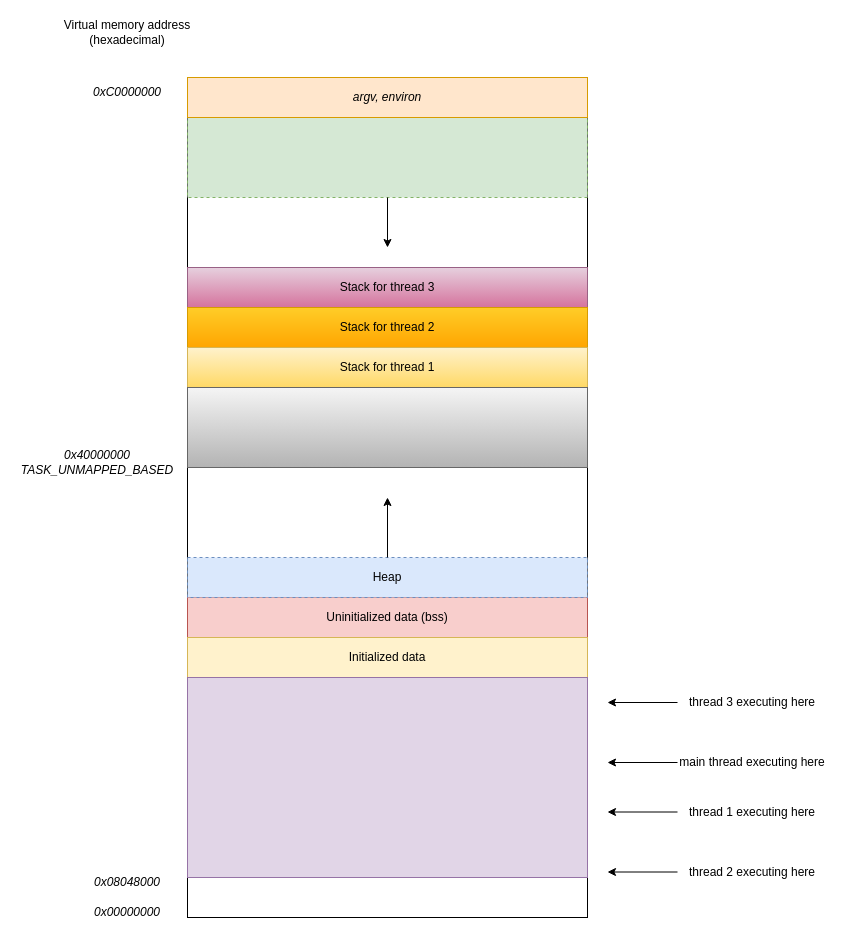
Image size: 844x944. Some labels were removed from this diagram. The shapes that lost their labels are listed below. From the top down, each one's box as (x1, y1, x2, y2) in pixels, then its label:
(186, 116, 588, 198): Stack for main thread
(186, 386, 588, 468): Shared libraries, shared memory
(186, 676, 588, 878): Text (program code)
